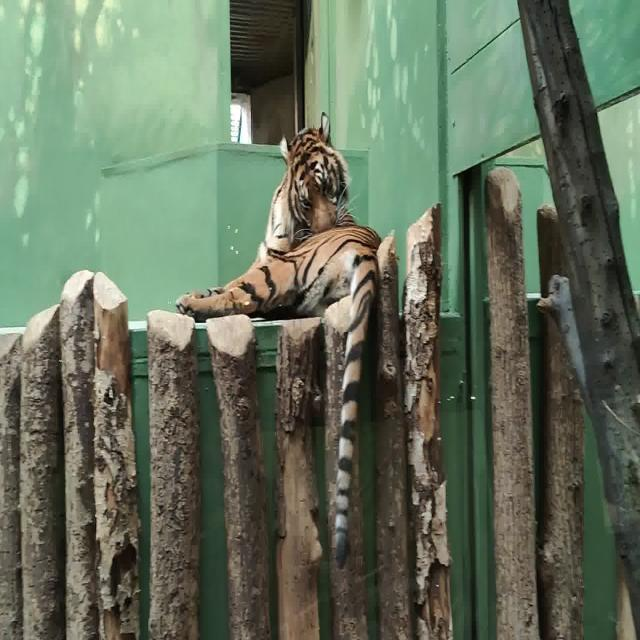tiger: (175, 111, 382, 570)
